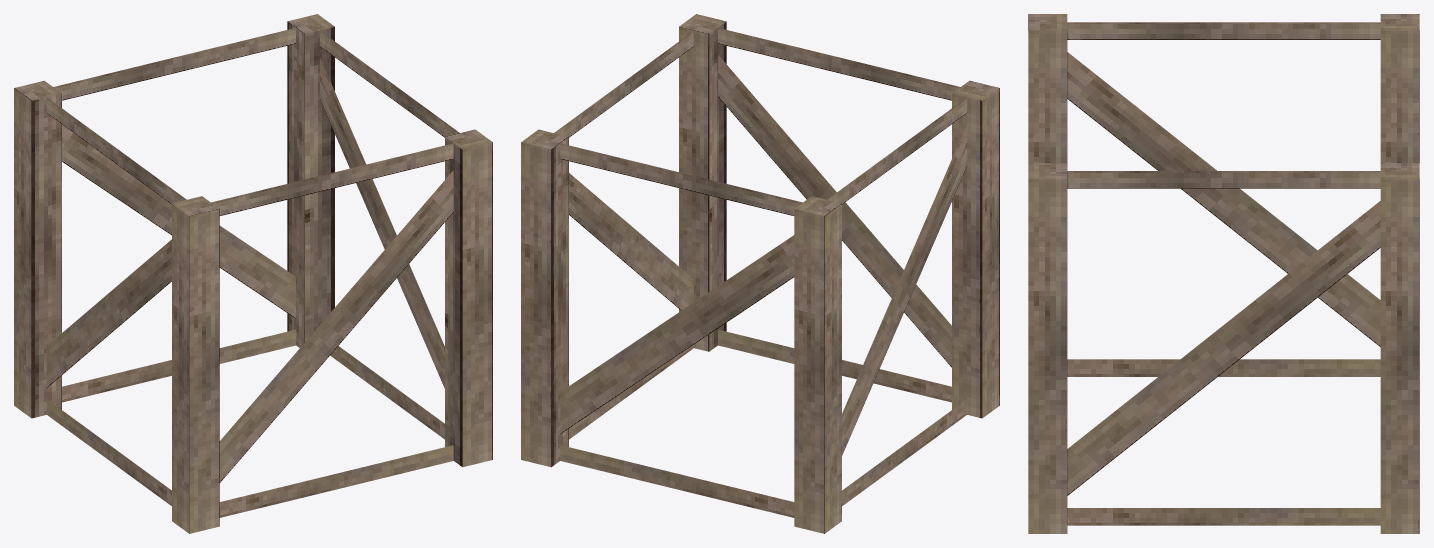
The model's file is structure-cross.glb.
The picture shows the model from 3 angles, left to right: view 1: azimuth 30°, elevation 25°; view 2: azimuth 150°, elevation 25°; view 3: azimuth 270°, elevation 25°; orthographic projection. The views are drawn at different scales.
Visible parts, largest first — view 1: structure-cross; view 2: structure-cross; view 3: structure-cross.
Boxes of the visible parts, x1,y1,x2,y2 form: structure-cross: (14, 14, 492, 533); structure-cross: (521, 14, 999, 533); structure-cross: (1028, 14, 1419, 533).
Bounding box in the file's own units: 1 × 1 × 1.
1 material, 1 textured.
